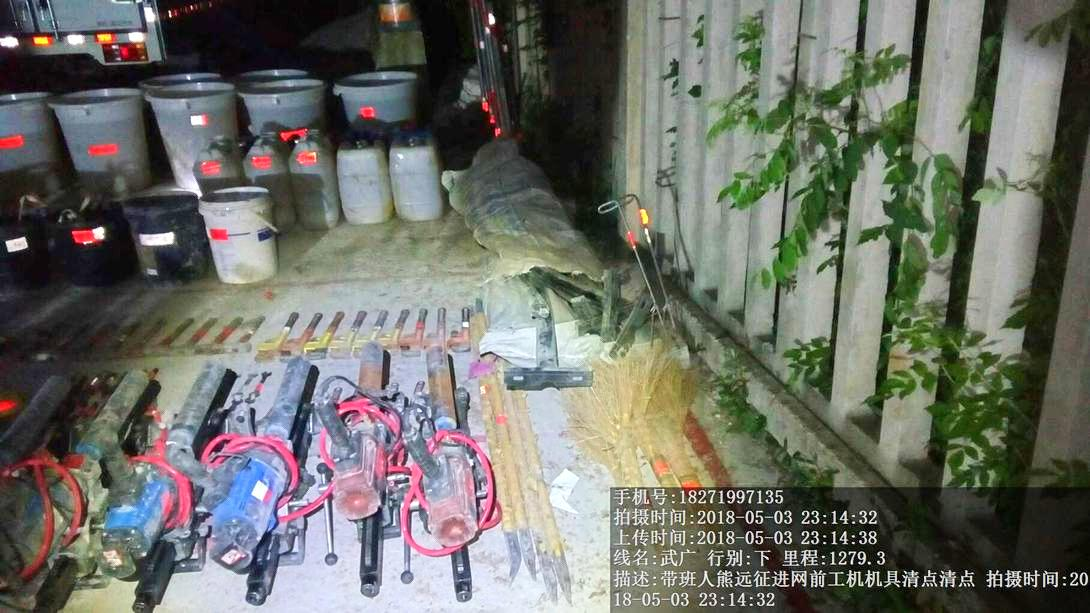GFJ: (194, 356, 323, 568), (323, 343, 401, 580), (403, 338, 462, 574)
SB: (566, 351, 708, 491)
